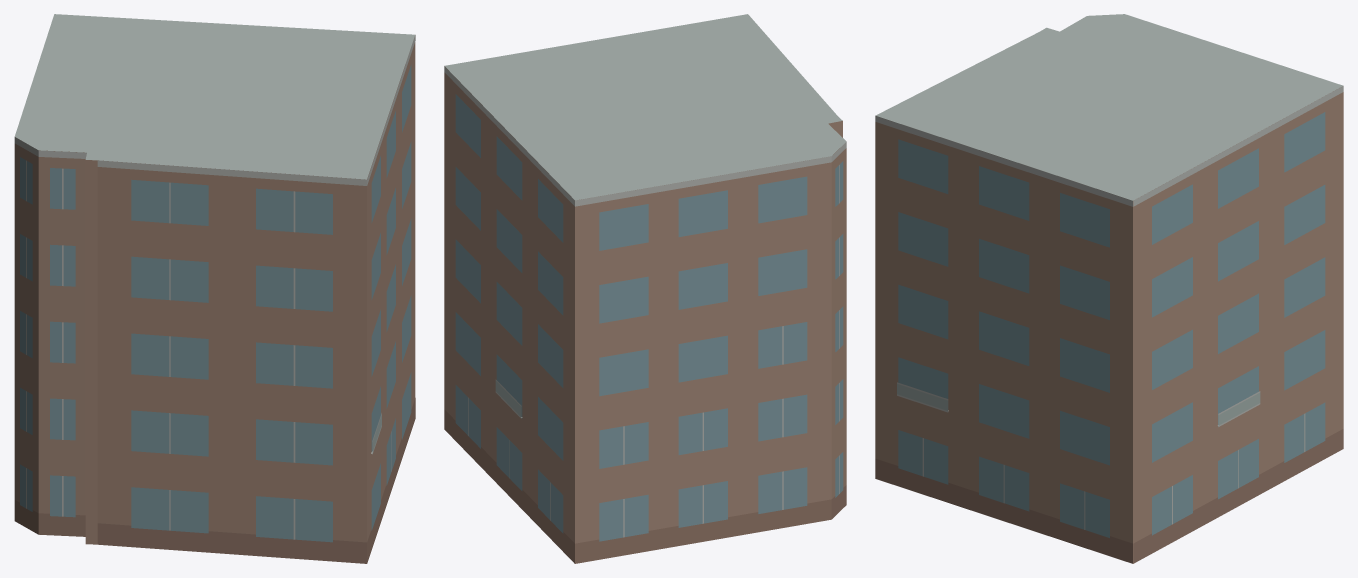
Rendered from survey-upis-32851091.glb.
The picture shows the model from 3 angles, left to right: view 1: azimuth 30°, elevation 25°; view 2: azimuth 150°, elevation 25°; view 3: azimuth 270°, elevation 25°; orthographic projection. The views are drawn at different scales.
Visible parts, largest first — view 1: survey-upis-32851091.tmp; view 2: survey-upis-32851091.tmp; view 3: survey-upis-32851091.tmp.
Part boxes in pixels (box(x1,y1,x2,y2)): survey-upis-32851091.tmp: box(14, 14, 415, 563); survey-upis-32851091.tmp: box(444, 14, 846, 563); survey-upis-32851091.tmp: box(875, 14, 1343, 563).
Size of the model in its own units: 15.89 by 14.4 by 16.84.
